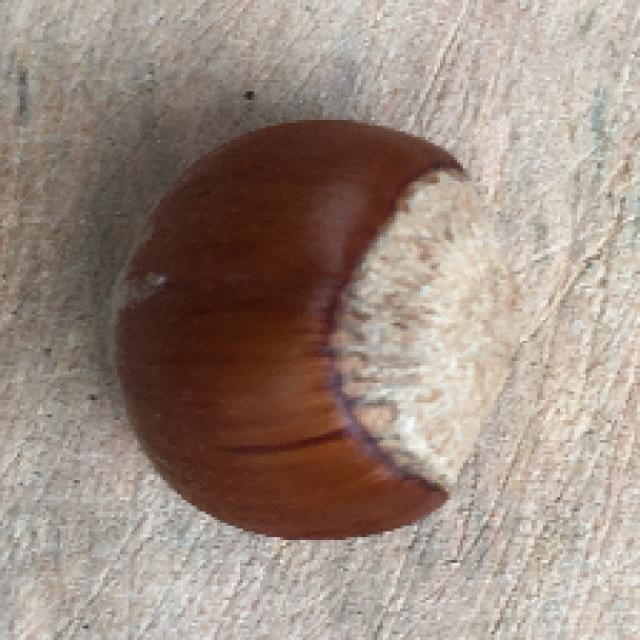QualityHazelnut: (108, 121, 522, 543)
